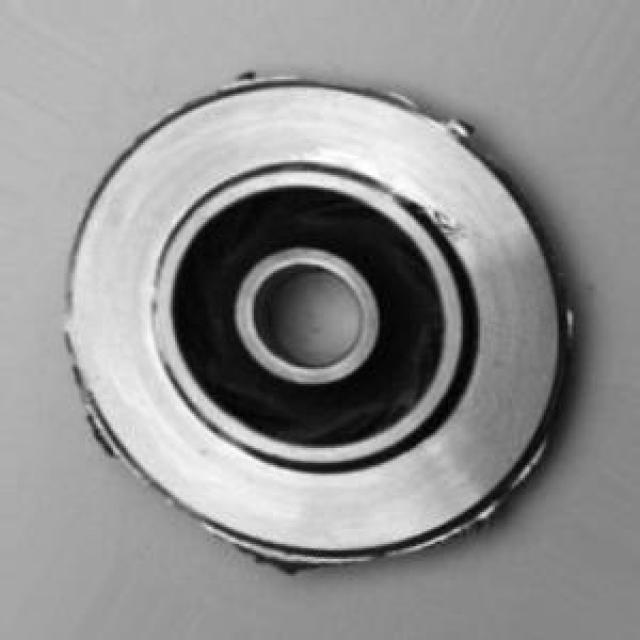Defect: (423, 97, 494, 150)
